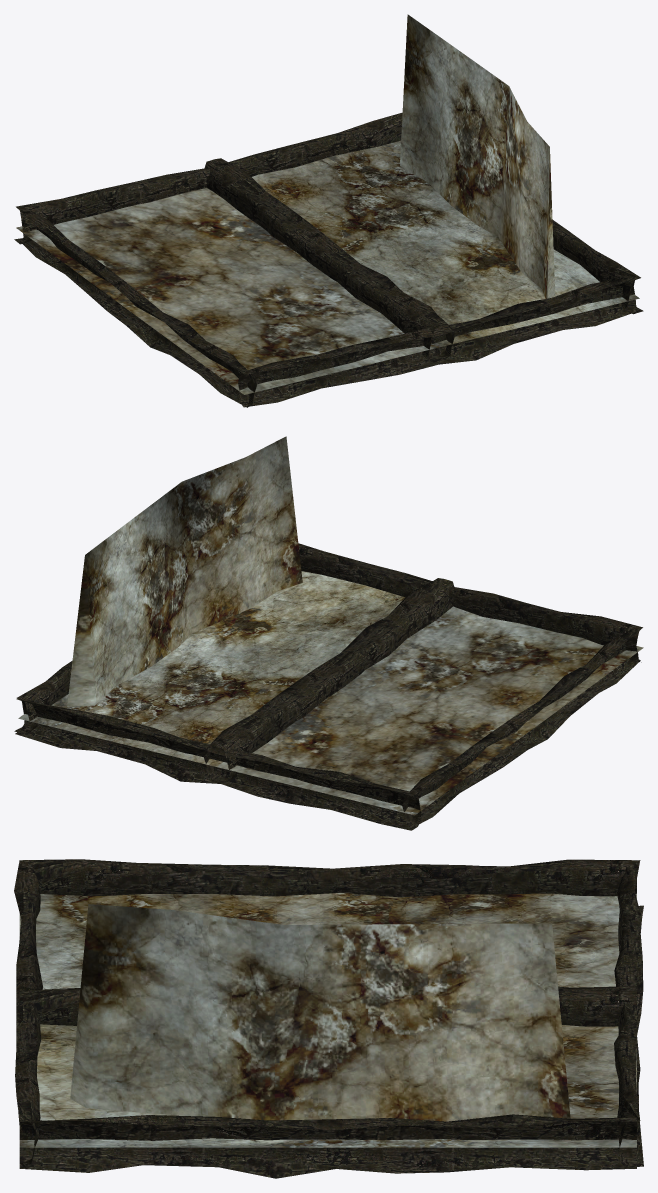
Rendered from cracked_ceiling.dae.
3 views of the same model, one above another, from view 1: azimuth 30°, elevation 25°; view 2: azimuth 150°, elevation 25°; view 3: azimuth 270°, elevation 25° (orthographic). The views are drawn at different scales.
Parts seen in each view (by area): view 1: pPlane13, cellarbase_ceiling_crack; view 2: pPlane13, cellarbase_ceiling_crack; view 3: pPlane13, cellarbase_ceiling_crack.
Part boxes in pixels (x1,y1,x2,y2): pPlane13: (16,14,639,394); cellarbase_ceiling_crack: (14,112,643,407); pPlane13: (18,436,643,815); cellarbase_ceiling_crack: (14,543,642,830); pPlane13: (19,893,636,1147); cellarbase_ceiling_crack: (14,859,643,1178).
Size of the model in its own units: 4.07 by 1.65 by 4.08.
